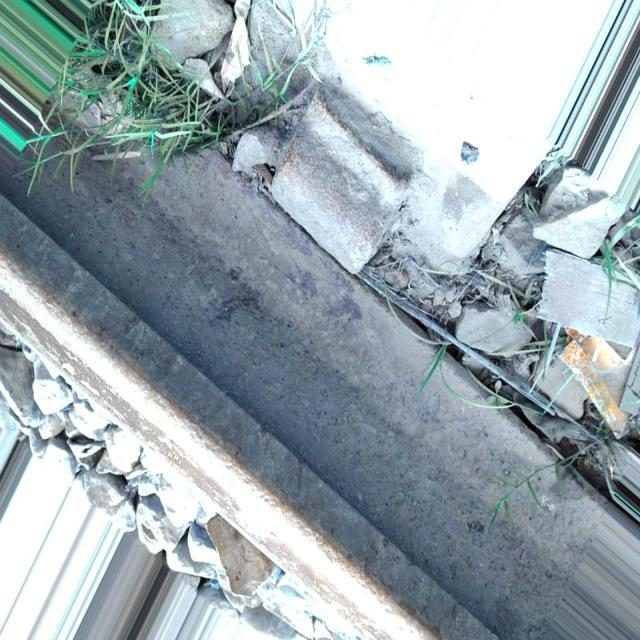Missing Fastener: (205, 29, 481, 365)
